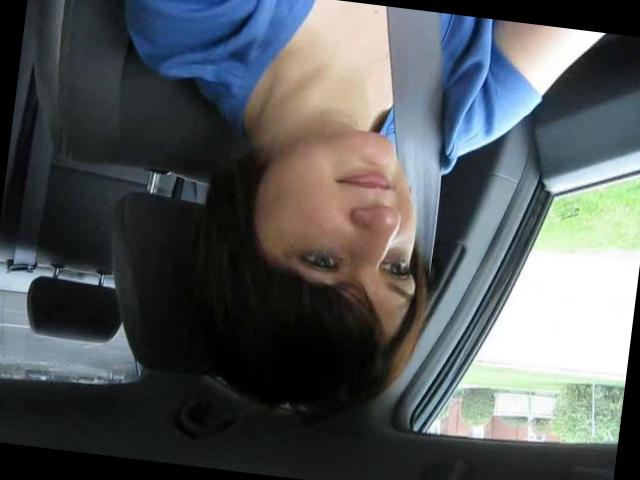eye_open: (292, 244, 350, 280), (376, 251, 415, 286)
face: (258, 121, 435, 320)
